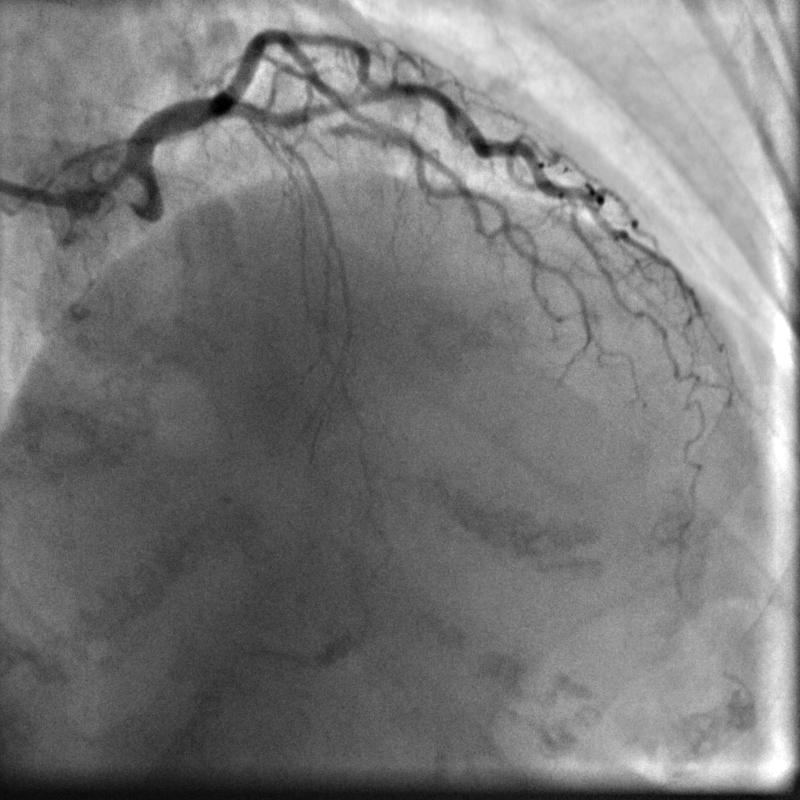Stenosis: (316, 116, 343, 131)
